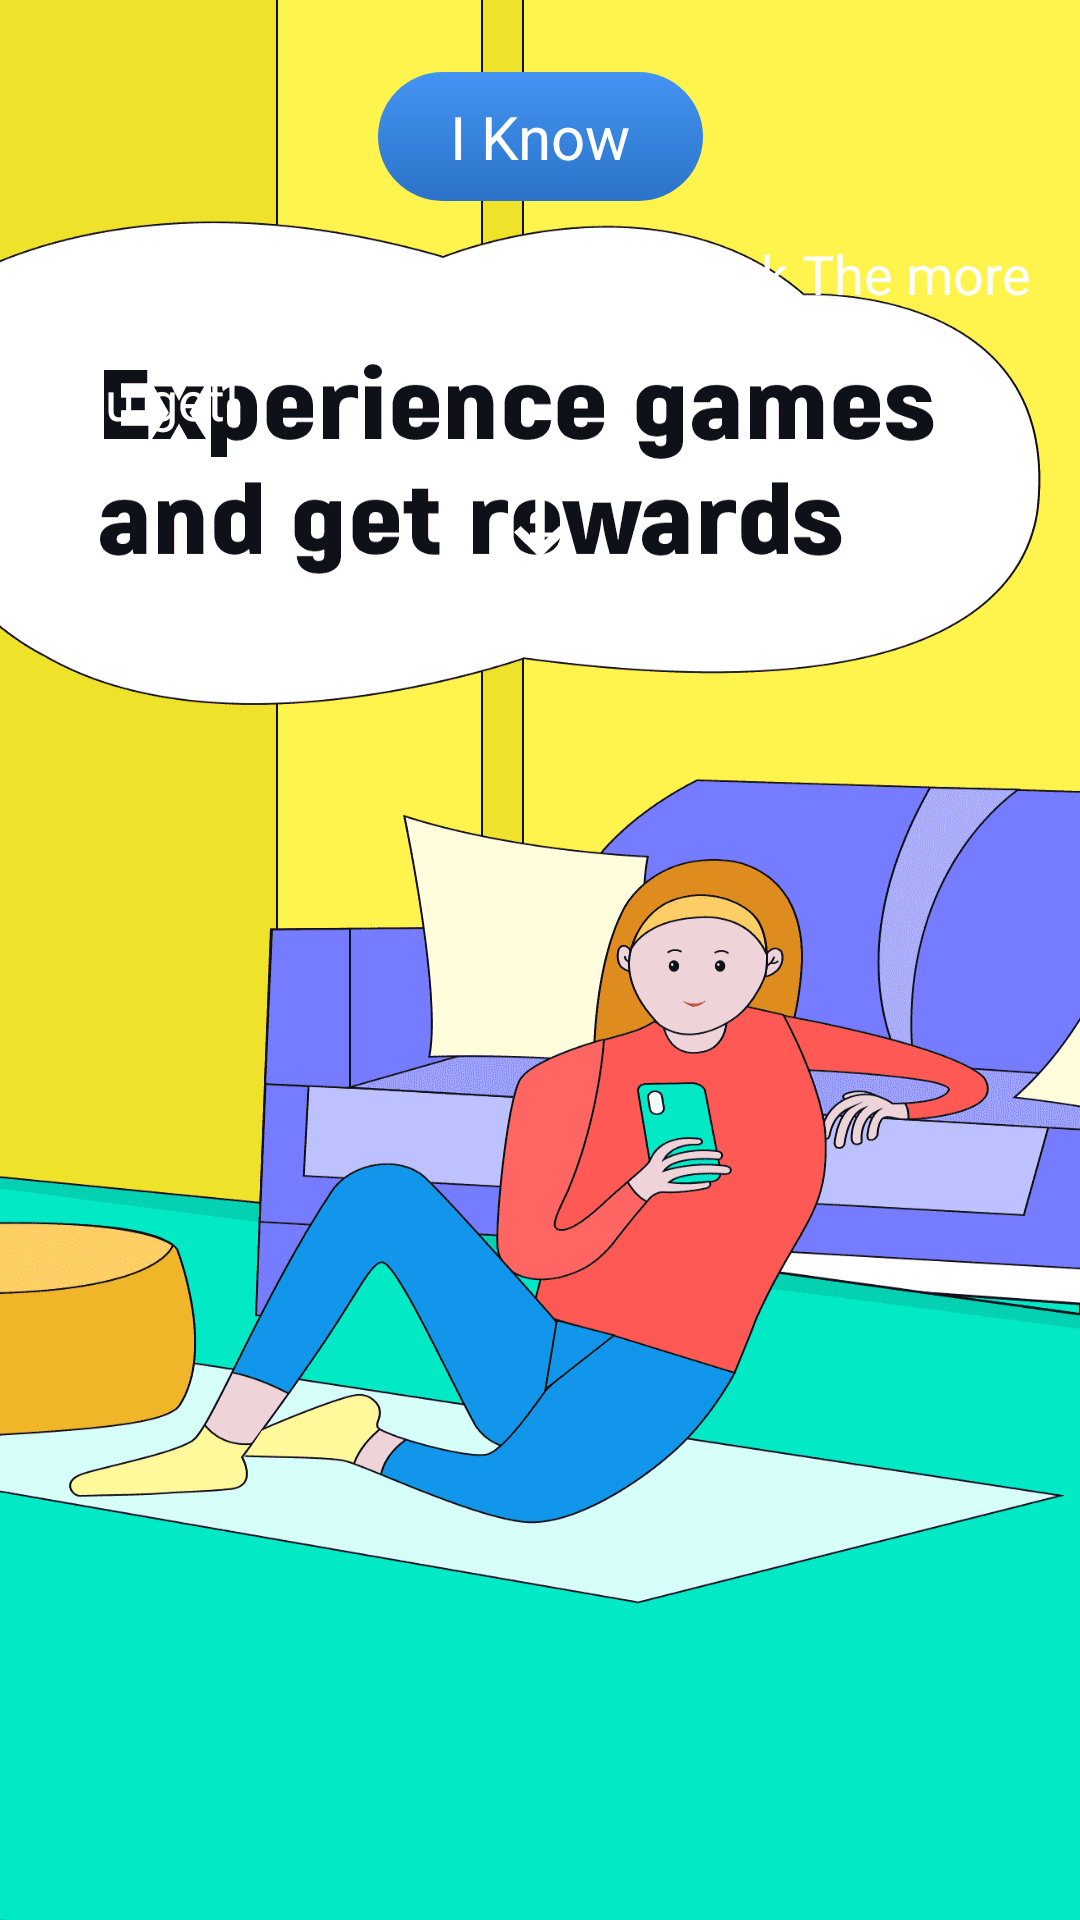

Where icons sit on this 1080px x 1920px app screen, as (x1, y1, x2, y2):
down: (514, 499, 560, 555)
